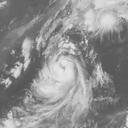cyclone: (35, 50, 84, 109), (92, 8, 121, 36)
